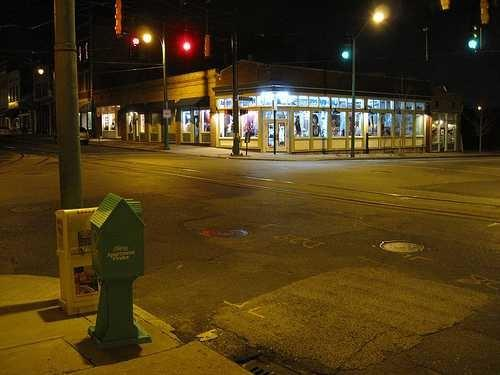green: (467, 24, 481, 53), (469, 41, 476, 51)
